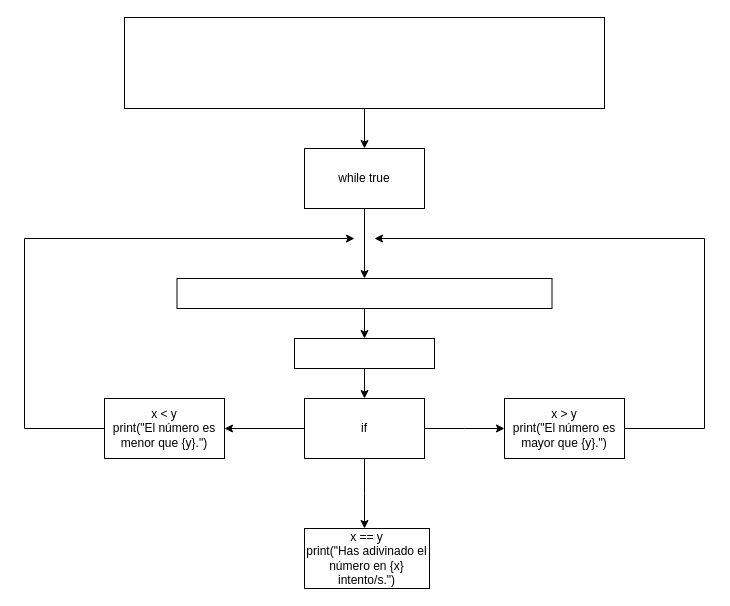
Image size: 730x606. Some labels were removed from this diagram. The box of each missing label's shape, as (x1, y1, x2, y2) in pixels:
import random x = random.randint (0, 99) z = 0: (124, 16, 604, 108)
y = int( input ("Introduzca un número entre el 1 y el 100: ")): (176, 278, 552, 308)
z = z + 1: (294, 338, 434, 368)
